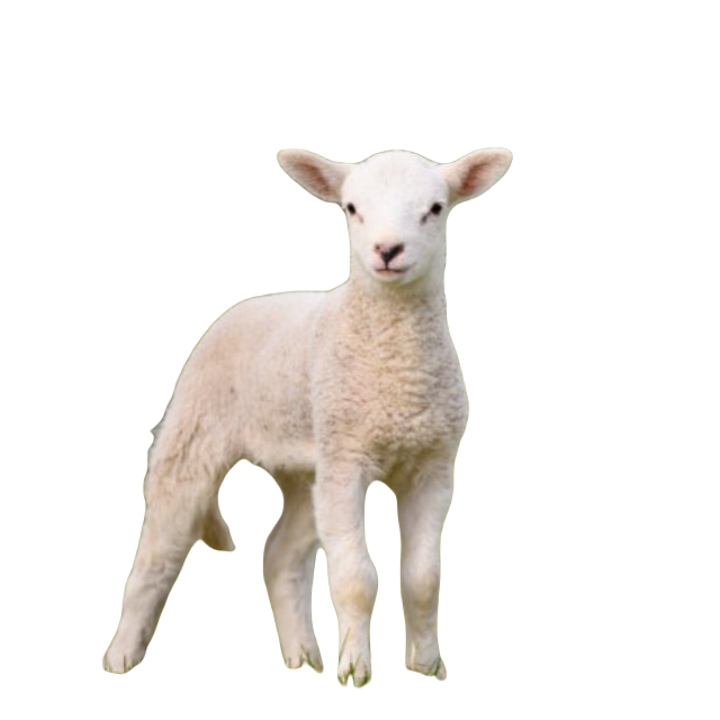Sheep: (94, 133, 522, 688)
